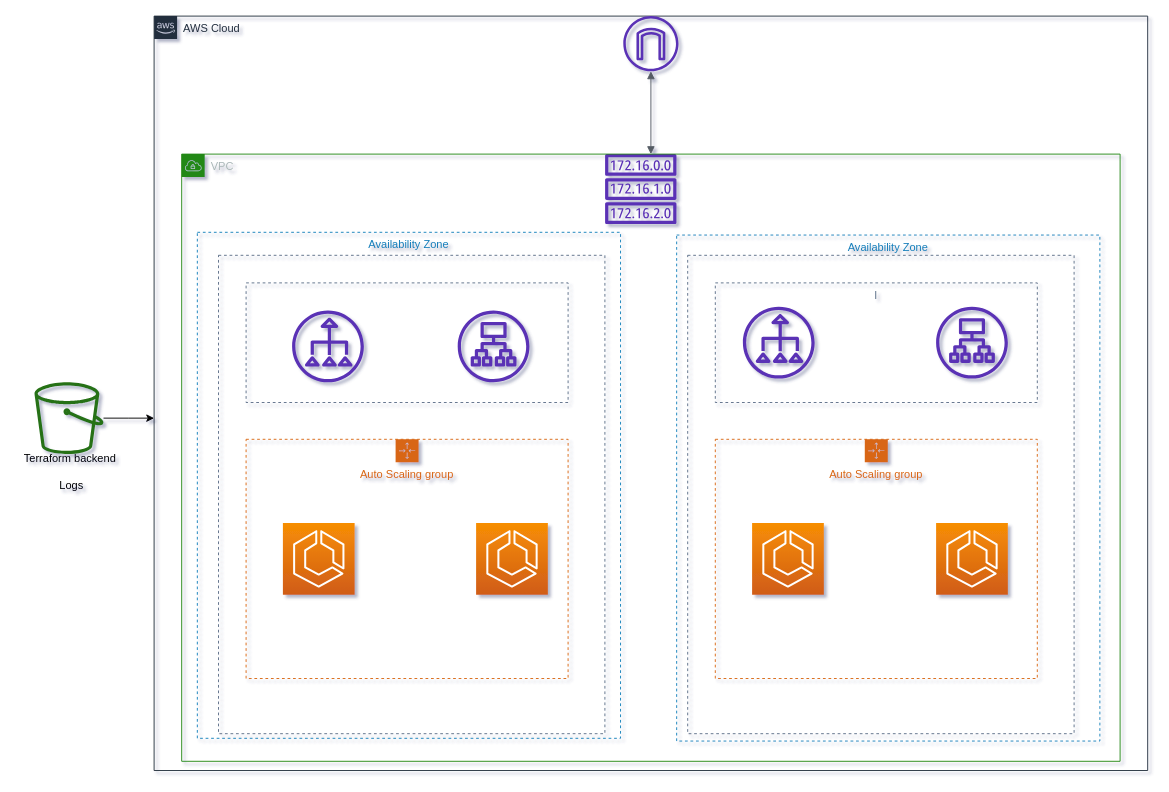
Some shapes in this 1169 by 792 pixel diagram are drawn without their labels. Each missing label, with the box of its shape:
Subnet 1: (218, 254, 605, 734)
Subnet 2: (687, 254, 1074, 734)
